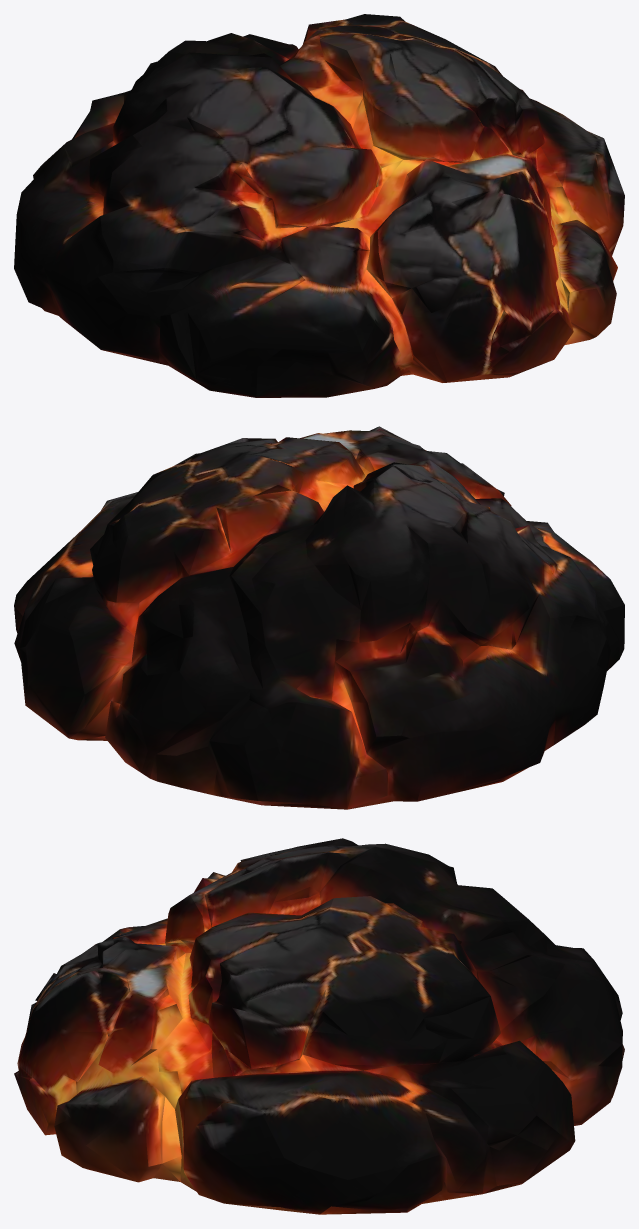
Rendered from lavaRock.glb.
3 views of the same model, one above another, from view 1: azimuth 30°, elevation 25°; view 2: azimuth 150°, elevation 25°; view 3: azimuth 270°, elevation 25° (orthographic). The views are drawn at different scales.
Parts seen in each view (by area): view 1: model; view 2: model; view 3: model.
Part boxes in pixels (left/top/right/bottom): model: left=14, top=14, right=624, bottom=397; model: left=14, top=426, right=624, bottom=809; model: left=14, top=838, right=624, bottom=1214.
Size of the model in its own units: 1.86 by 0.7371 by 1.9.
1 material, 1 textured.
